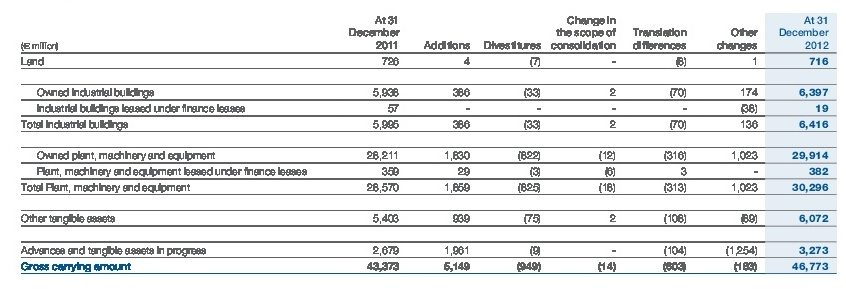table: (0, 0, 846, 289)
